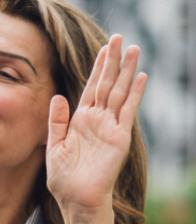down: (40, 31, 148, 195)
